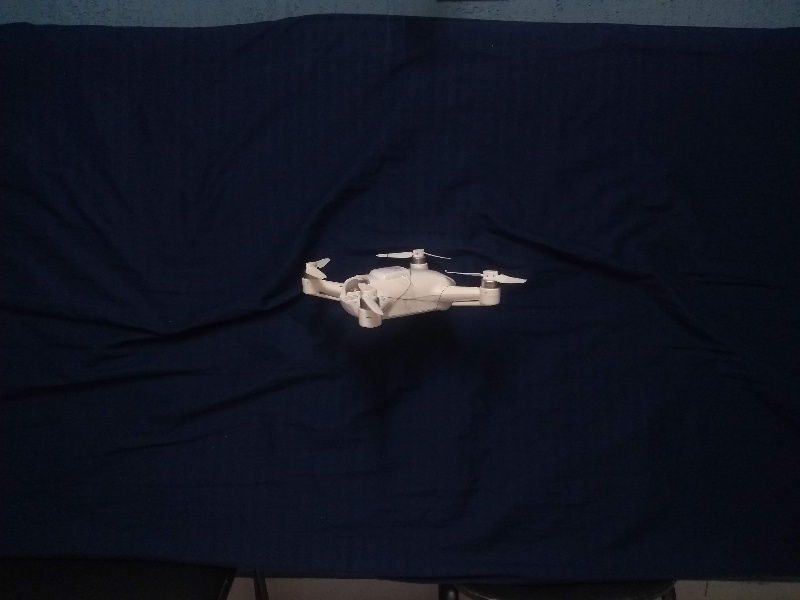drone: (295, 227, 528, 339)
